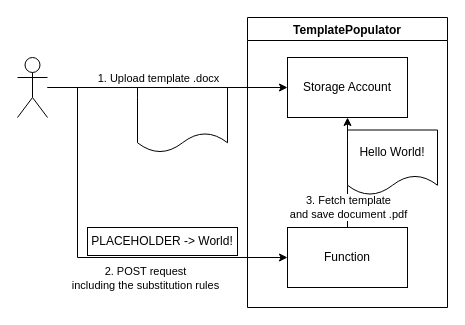
Some shapes in this 465 by 325 pixel diagram are drawn without their labels. Each missing label, with the box of its shape:
Actor: (16, 56, 48, 118)
Hello PLACHOLDER: (136, 86, 228, 152)
